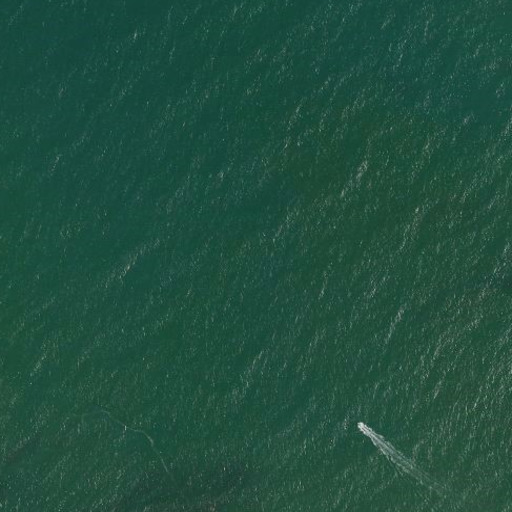ship: (353, 419, 369, 434)
